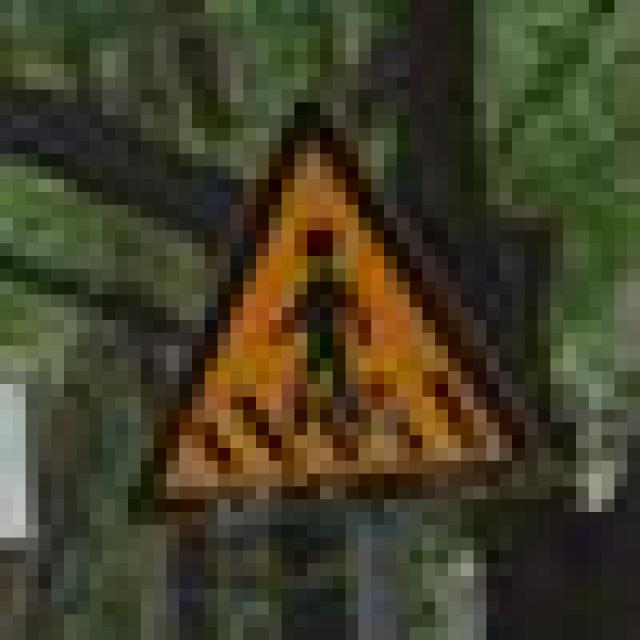pass_either_side: (115, 90, 512, 487)
